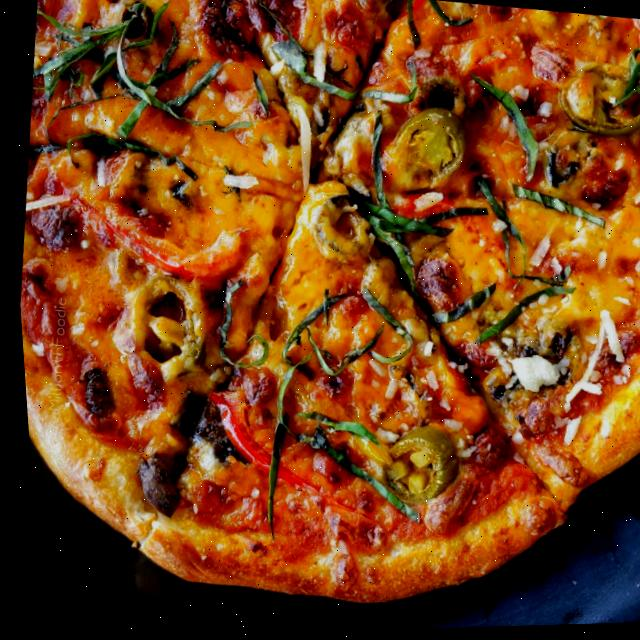basil: (21, 0, 263, 157), (346, 111, 435, 293), (280, 423, 421, 526), (25, 123, 199, 185), (456, 74, 546, 187), (467, 277, 574, 356), (263, 35, 363, 104), (209, 279, 273, 371), (600, 48, 640, 191), (348, 286, 416, 369), (297, 318, 380, 383), (504, 185, 605, 233), (465, 178, 528, 252), (251, 421, 285, 536), (265, 349, 310, 433), (425, 278, 494, 331), (495, 242, 569, 291), (272, 301, 323, 367), (357, 57, 419, 107), (292, 410, 366, 441), (414, 201, 485, 233), (421, 0, 474, 31), (402, 0, 425, 51), (247, 72, 272, 118), (314, 289, 342, 327), (314, 289, 330, 326), (330, 294, 340, 299)
pizza: (0, 0, 640, 640)
